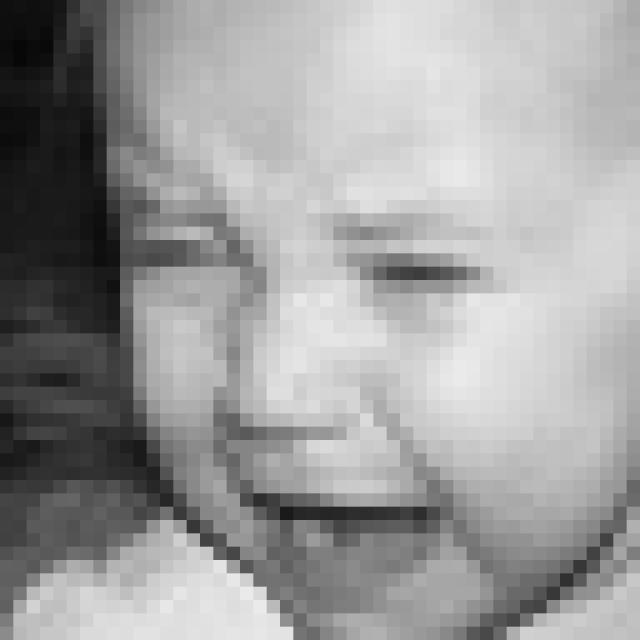sad: (126, 176, 513, 603)
